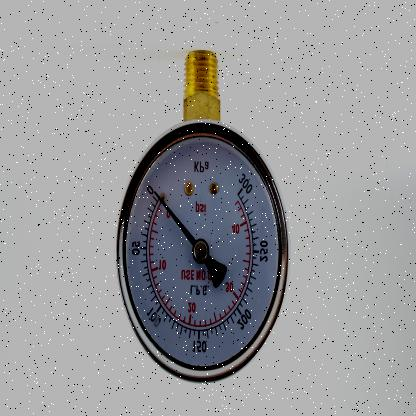needle: (154, 191, 196, 246)
